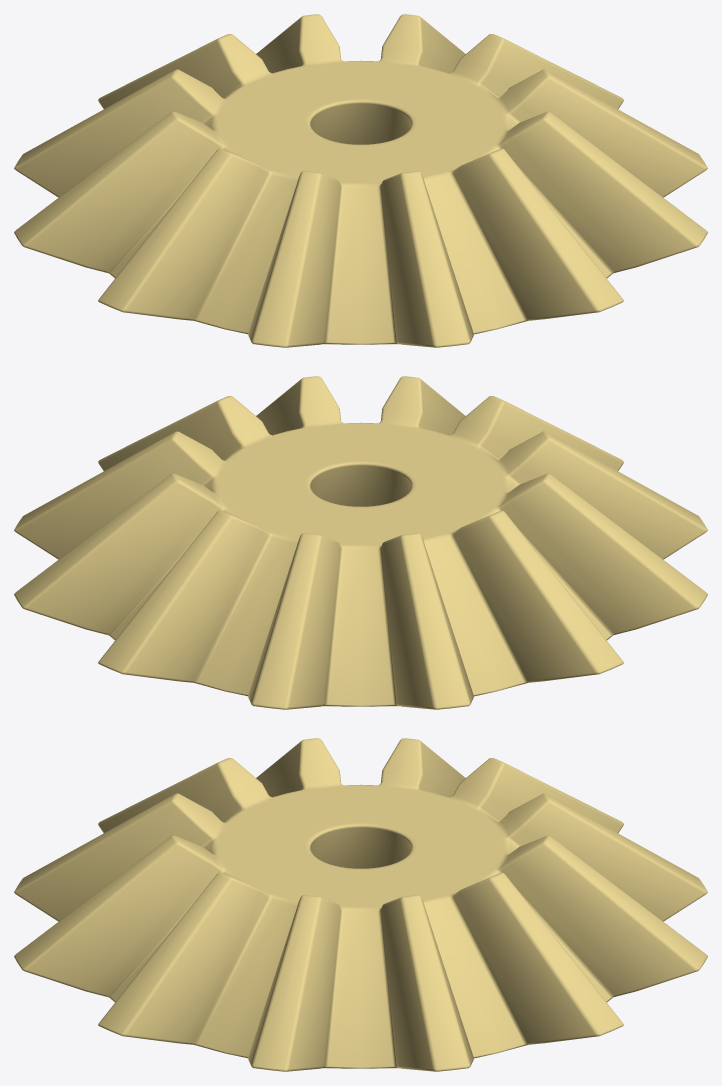
Rendered from gear.fbx.
3 views of the same model, one above another, from view 1: azimuth 30°, elevation 25°; view 2: azimuth 150°, elevation 25°; view 3: azimuth 270°, elevation 25° (orthographic).
Parts seen in each view (by area): view 1: Gear.002; view 2: Gear.002; view 3: Gear.002.
Boxes of the visible parts, x1=… form: Gear.002: x1=14, y1=14, x2=707, y2=347; Gear.002: x1=14, y1=376, x2=707, y2=709; Gear.002: x1=14, y1=738, x2=707, y2=1071.
Size of the model in its own units: 233 by 50.83 by 233.
